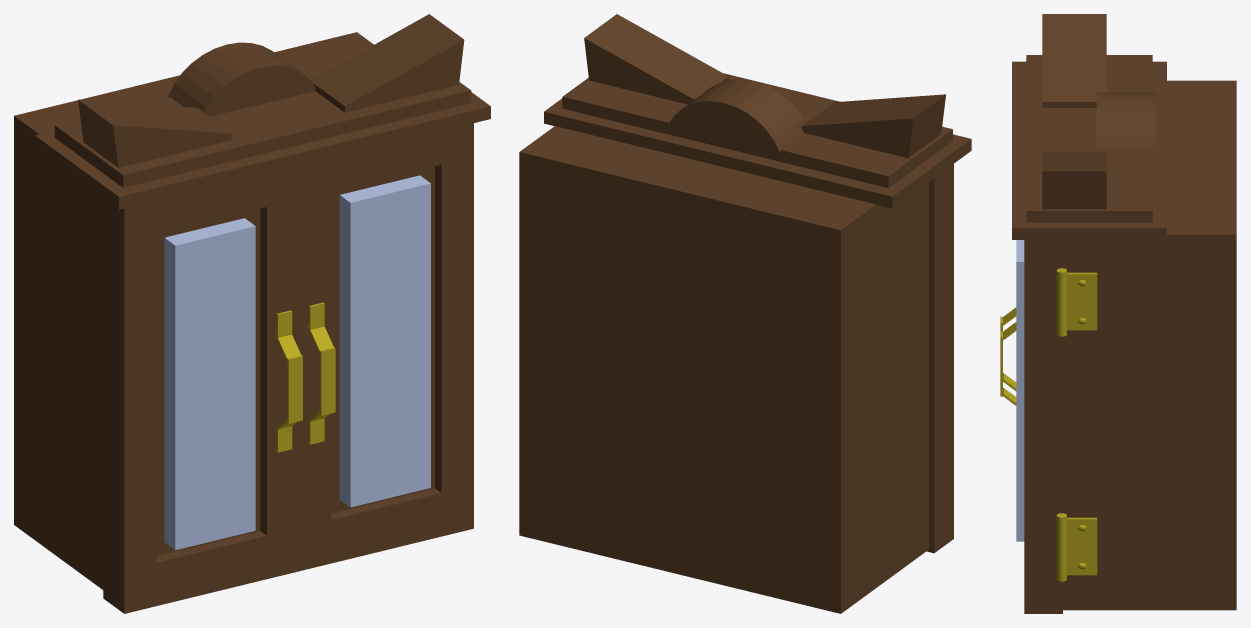
Rendered from cupboard.fbx.
3 views of the same model, side by side, from view 1: azimuth 30°, elevation 25°; view 2: azimuth 150°, elevation 25°; view 3: azimuth 270°, elevation 25° (orthographic). The views are drawn at different scales.
Visible parts, largest first — view 1: Cube.133, Cube.137, Cube.130, Cube.132, Cube.129, Cube.134, Cube.135, Cube.136, Cylinder.060, Cube.131, Cube.126, Cube.123 (+2 smaller); view 2: Cube.137, Cube.131, Cube.134, Cube.135, Cube.133, Cube.136, Cylinder.060; view 3: Cube.131, Cube.130, Cube.135, Cube.134, Cube.136, Cube.137, Cylinder.060, Cube.129, Cube.128, Cube.127, Cylinder.059, Cylinder.058.
Part boxes in pixels (left/top/right/bottom): Cube.133: left=103, top=166, right=299, bottom=613; Cube.137: left=14, top=75, right=260, bottom=589; Cube.130: left=299, top=123, right=473, bottom=571; Cube.132: left=164, top=218, right=255, bottom=550; Cube.129: left=339, top=175, right=430, bottom=507; Cube.134: left=78, top=14, right=464, bottom=167; Cube.135: left=54, top=49, right=471, bottom=187; Cube.136: left=34, top=92, right=490, bottom=209; Cylinder.060: left=168, top=42, right=315, bottom=116; Cube.131: left=274, top=32, right=434, bottom=513; Cube.126: left=287, top=355, right=302, bottom=423; Cube.123: left=320, top=347, right=335, bottom=415; Cube.137: left=679, top=165, right=929, bottom=613; Cube.131: left=519, top=126, right=715, bottom=574; Cube.134: left=584, top=14, right=945, bottom=158; Cube.135: left=562, top=73, right=952, bottom=187; Cube.133: left=926, top=164, right=953, bottom=553; Cube.136: left=544, top=98, right=971, bottom=208; Cylinder.060: left=668, top=79, right=805, bottom=152; Cube.131: left=1063, top=157, right=1236, bottom=610; Cube.130: left=1024, top=240, right=1062, bottom=613; Cube.135: left=1026, top=55, right=1152, bottom=222; Cube.134: left=1042, top=14, right=1106, bottom=209; Cube.136: left=1012, top=61, right=1166, bottom=239; Cube.137: left=1167, top=80, right=1236, bottom=157; Cylinder.060: left=1096, top=92, right=1155, bottom=161; Cube.129: left=1016, top=240, right=1024, bottom=541; Cube.128: left=1067, top=272, right=1097, bottom=330; Cube.127: left=1067, top=517, right=1097, bottom=575; Cylinder.059: left=1056, top=268, right=1066, bottom=336; Cylinder.058: left=1056, top=513, right=1066, bottom=581.
Size of the model in its own units: 948 by 1172 by 567.
